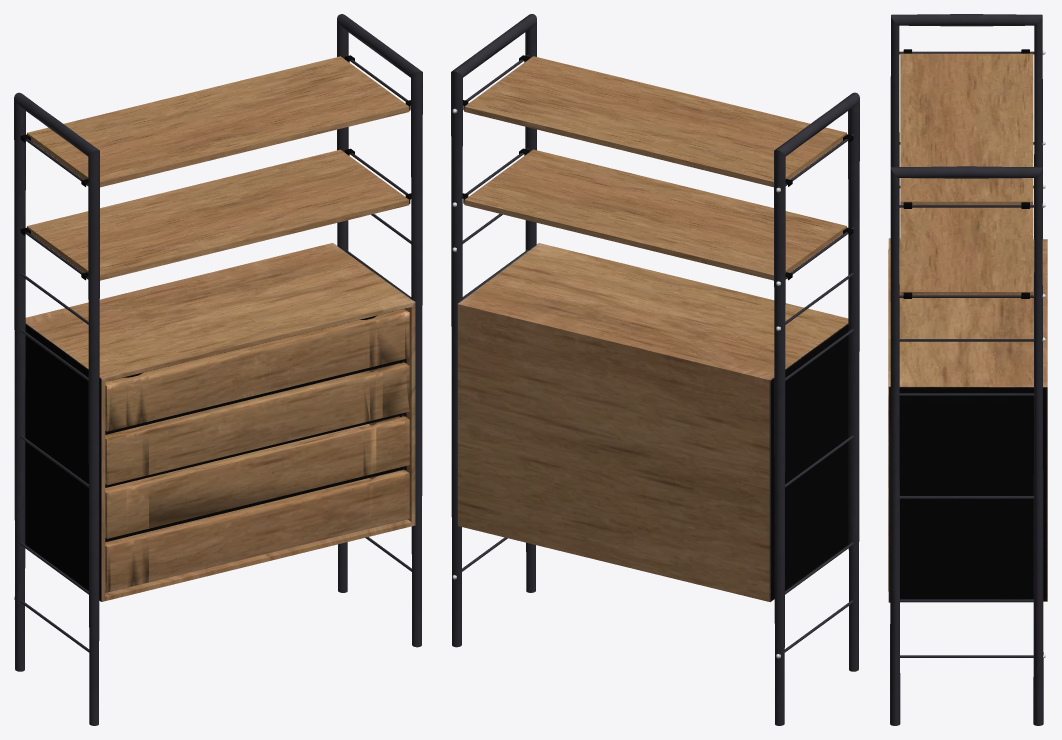
Rendered from drawer_cabinet.glb.
The picture shows the model from 3 angles, left to right: view 1: azimuth 30°, elevation 25°; view 2: azimuth 150°, elevation 25°; view 3: azimuth 270°, elevation 25°; orthographic projection. The views are drawn at different scales.
Parts seen in each view (by area): view 1: drawer_cabinet, drawer_cabinet_drawer_03, drawer_cabinet_drawer_02, drawer_cabinet_drawer_04, drawer_cabinet_drawer_01; view 2: drawer_cabinet; view 3: drawer_cabinet.
Part boxes in pixels (left/top/right/bottom): drawer_cabinet: left=14, top=14, right=422, bottom=725; drawer_cabinet_drawer_03: left=105, top=416, right=409, bottom=538; drawer_cabinet_drawer_02: left=105, top=362, right=409, bottom=485; drawer_cabinet_drawer_04: left=105, top=469, right=409, bottom=592; drawer_cabinet_drawer_01: left=105, top=309, right=409, bottom=431; drawer_cabinet: left=451, top=14, right=859, bottom=725; drawer_cabinet: left=888, top=14, right=1047, bottom=725.
Size of the model in its own units: 1.14 by 1.88 by 0.4881.
Materials: 1 (1 with a texture image).
